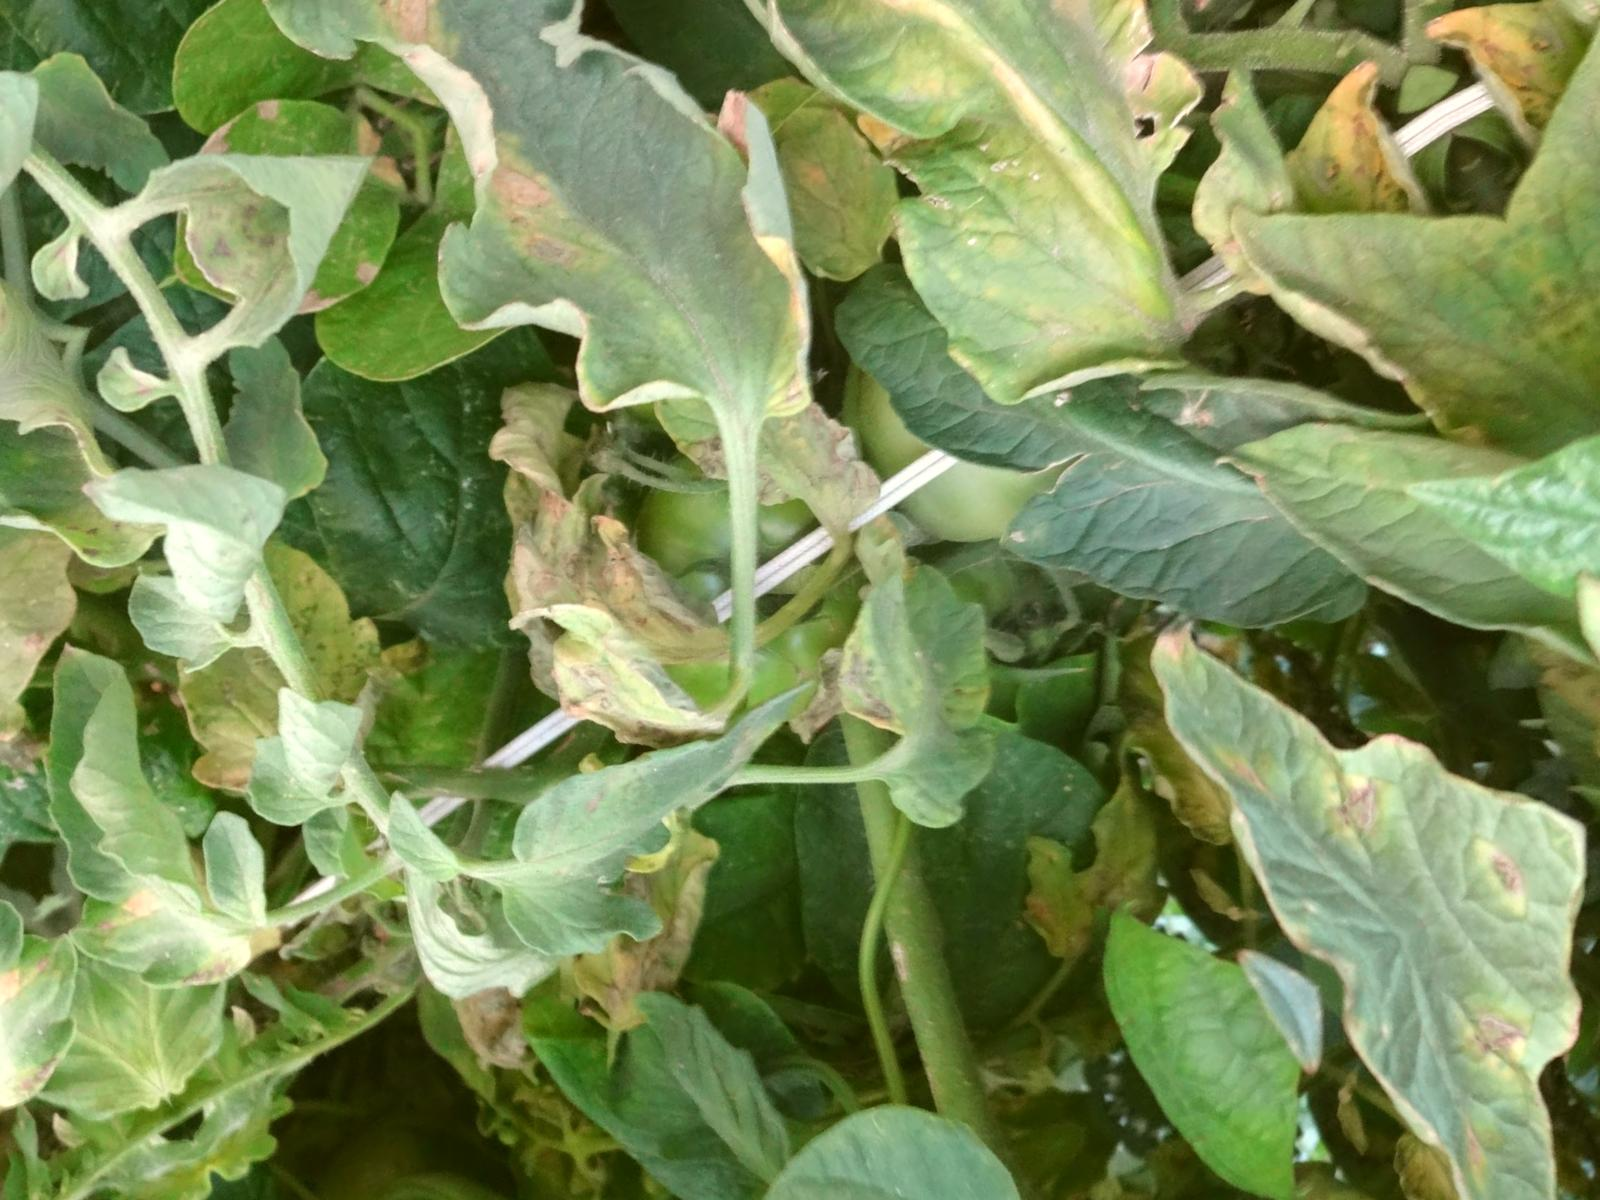Tomato leaf late blight: (367, 0, 923, 579), (1063, 456, 1600, 1012), (449, 645, 889, 1016), (0, 585, 330, 1060), (757, 508, 1082, 865)
